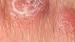plaque psoriasis: (6, 0, 42, 18), (57, 3, 75, 37)
